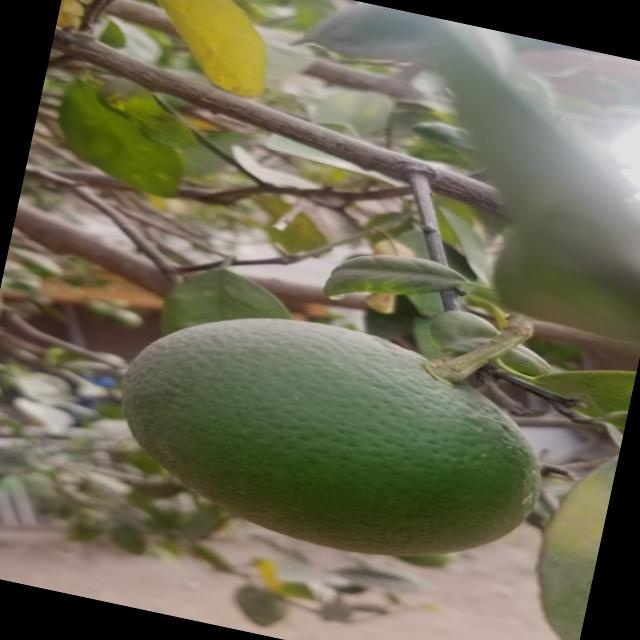agrume: (103, 296, 560, 581), (527, 425, 622, 640)
